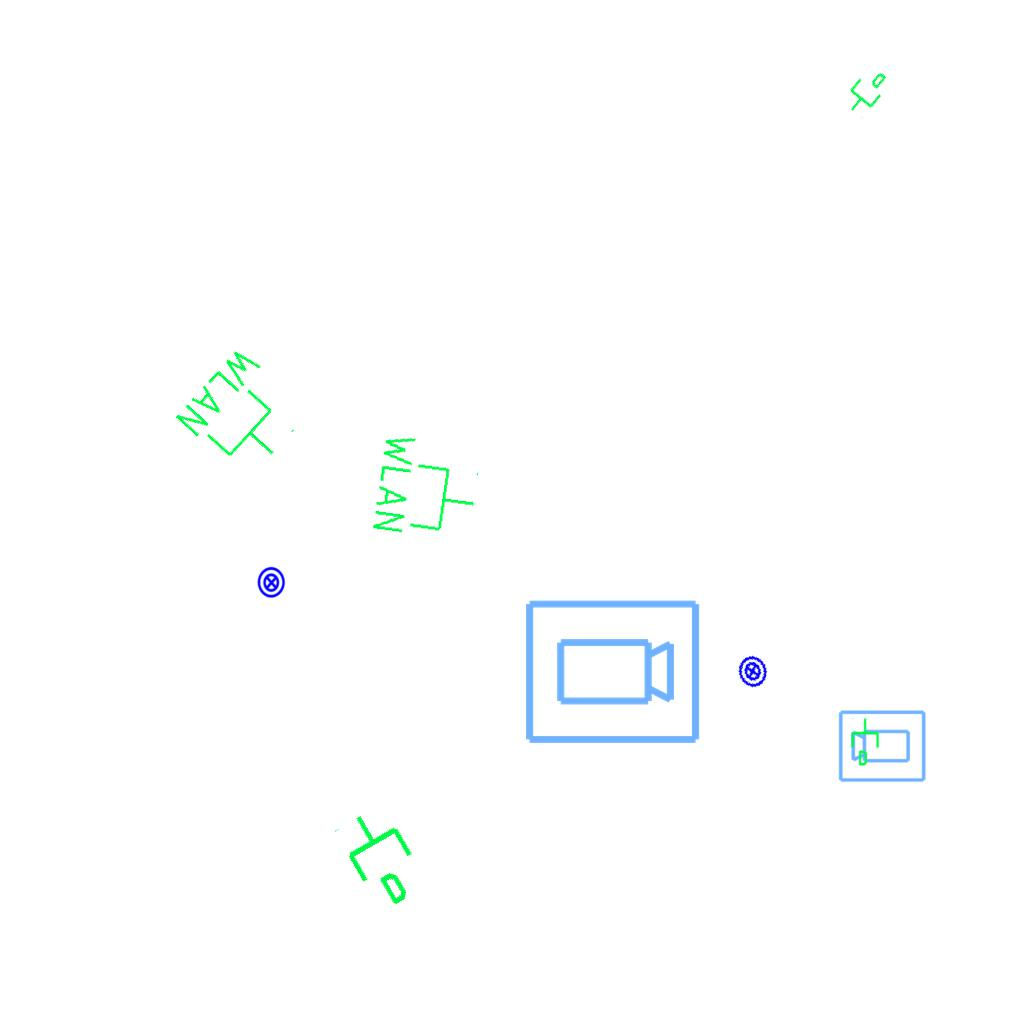Datenanschluss_einfach: (328, 796, 439, 918), (837, 60, 895, 122), (849, 717, 883, 767)
KFO_Kamera_mit_Festobjektiv: (521, 596, 703, 750), (837, 707, 928, 784)
Taster_beleuchtet: (732, 651, 773, 692), (255, 566, 288, 599)
WLAN: (169, 339, 317, 488), (368, 428, 486, 547)
